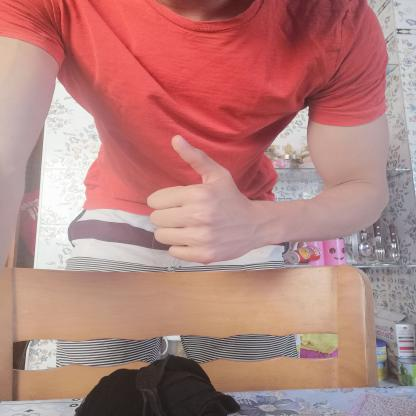ALIF: (126, 124, 274, 273)
